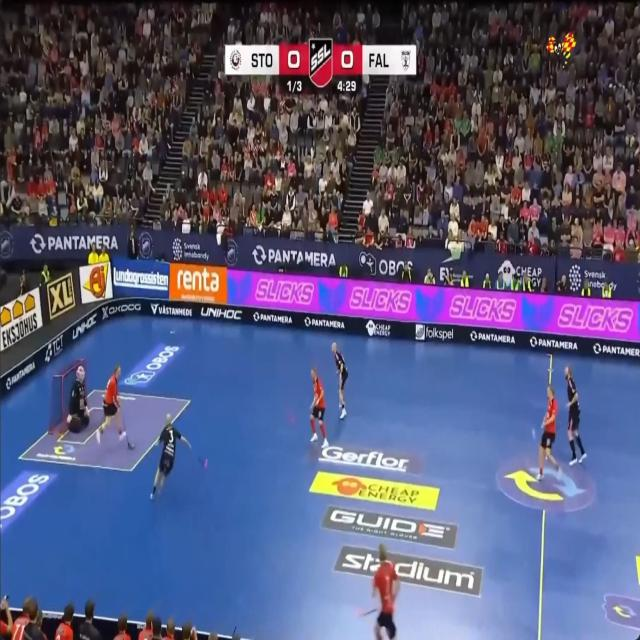player: (150, 414, 190, 499), (373, 544, 399, 639), (96, 367, 127, 442), (537, 385, 560, 480), (564, 367, 586, 465), (67, 366, 89, 433), (310, 368, 328, 447), (331, 342, 348, 418), (127, 439, 133, 448)
